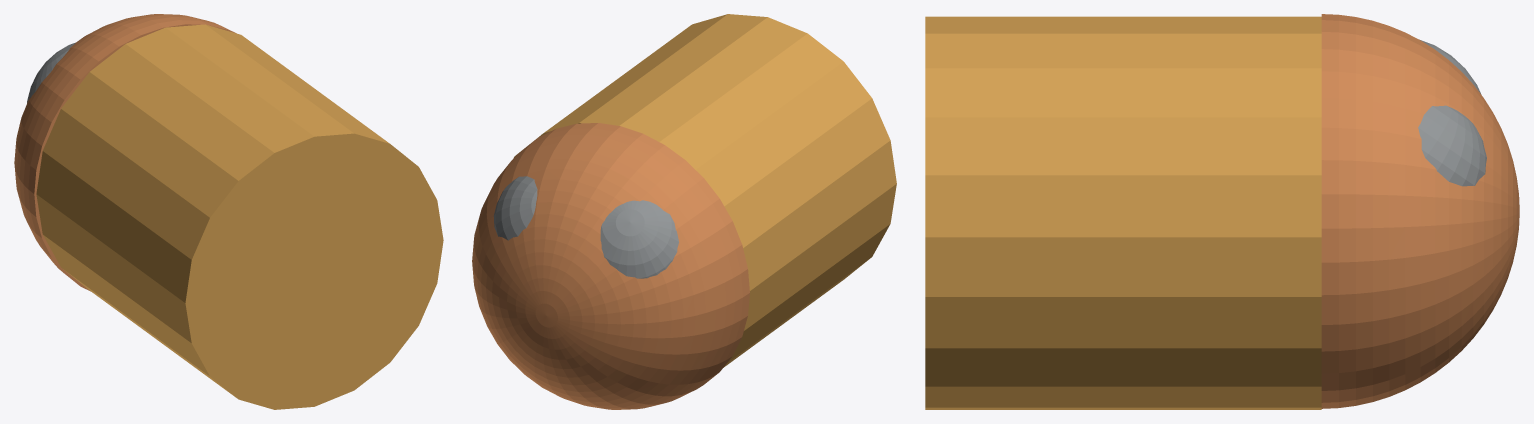
File: Fantabulous Luulia-Jarv.glb
3 views of the same model, side by side, from view 1: azimuth 30°, elevation 25°; view 2: azimuth 150°, elevation 25°; view 3: azimuth 270°, elevation 25° (orthographic). The views are drawn at different scales.
Visible parts, largest first — view 1: Mesh_Mesh_head_geo.001_lambert2SG.001; view 2: Mesh_Mesh_head_geo.001_lambert2SG.001; view 3: Mesh_Mesh_head_geo.001_lambert2SG.001.
Boxes of the visible parts, <box> form: Mesh_Mesh_head_geo.001_lambert2SG.001: <box>14,14,443,409</box>; Mesh_Mesh_head_geo.001_lambert2SG.001: <box>472,14,896,409</box>; Mesh_Mesh_head_geo.001_lambert2SG.001: <box>925,14,1519,409</box>.
Bounding box in the file's own units: 20.16 × 20.03 × 30.
